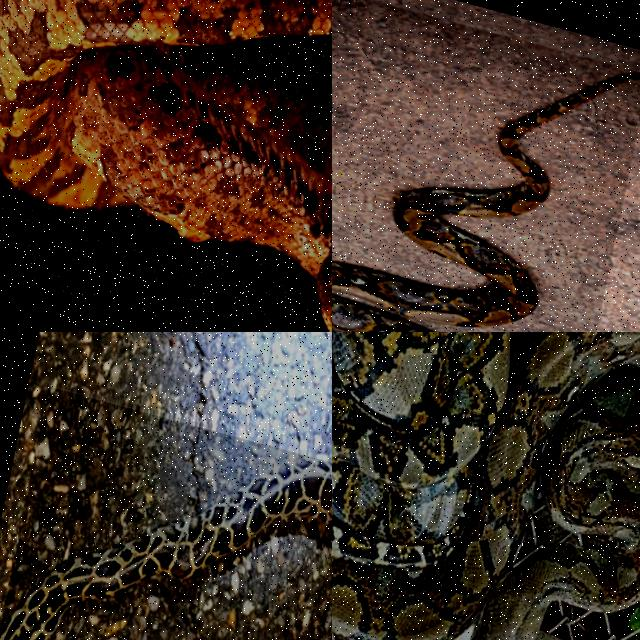Malayopython reticulatus: (332, 332, 639, 639), (332, 73, 639, 331)
Ovophis monticola: (0, 0, 331, 330)
Python bivittatus: (0, 455, 331, 639)
snake: (0, 0, 331, 330), (332, 332, 639, 639), (332, 73, 639, 331), (0, 455, 331, 639)
